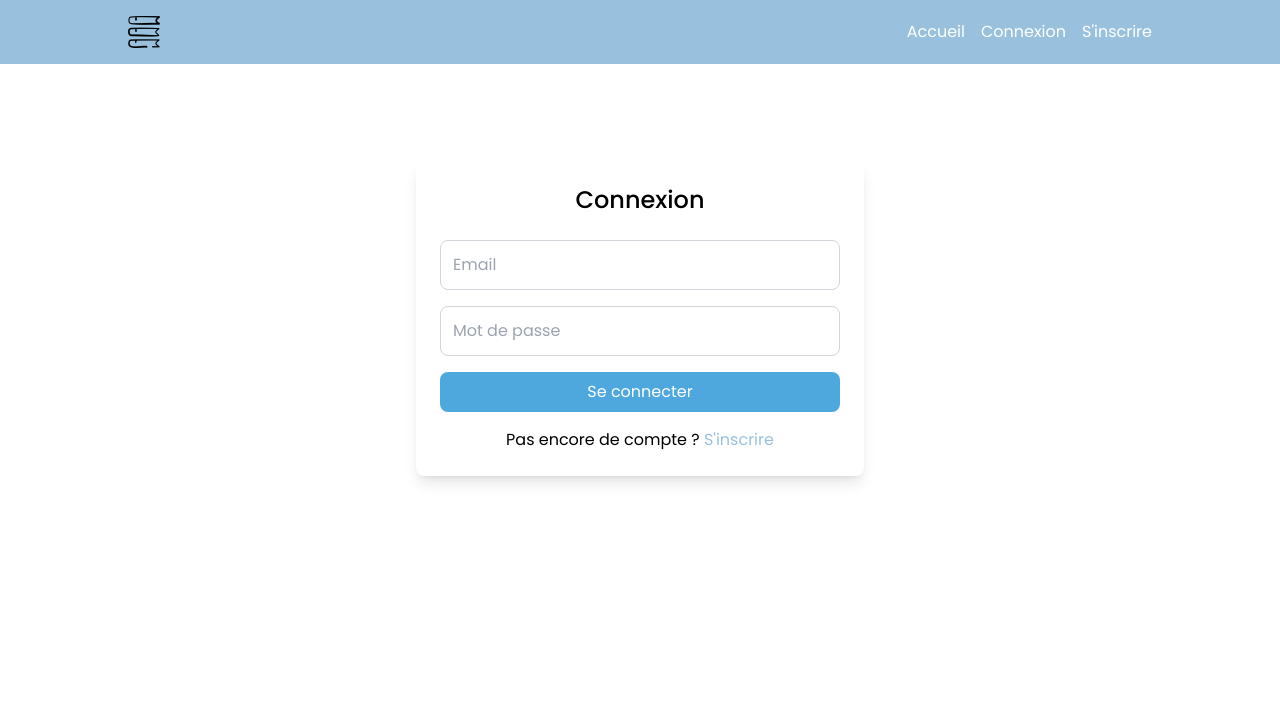
Test: Login Page Tests › Login Failure with Invalid Credentials
Type "invalid-email@example.com" into the field with placeholder "Email" at (640, 265), box x1=440 y1=240 x2=840 y2=290
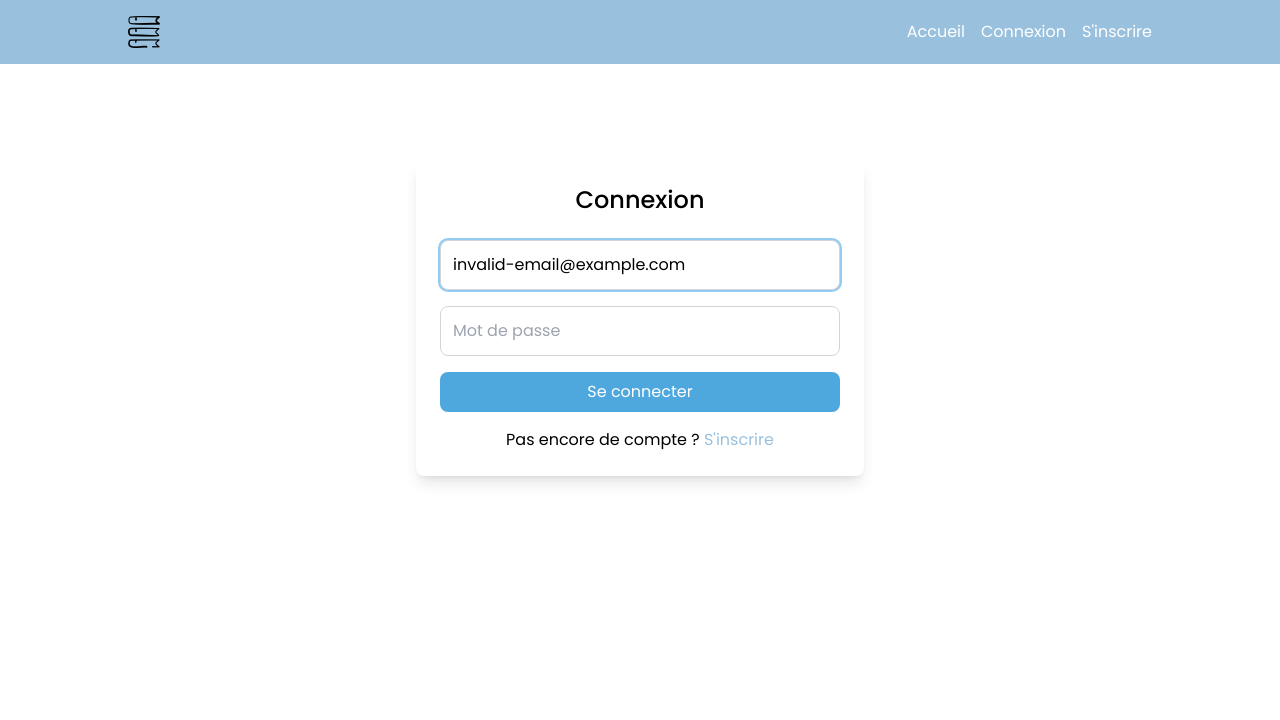
Type "invalid-password" into the password field with placeholder "Mot de passe" at (640, 331), box x1=440 y1=306 x2=840 y2=356
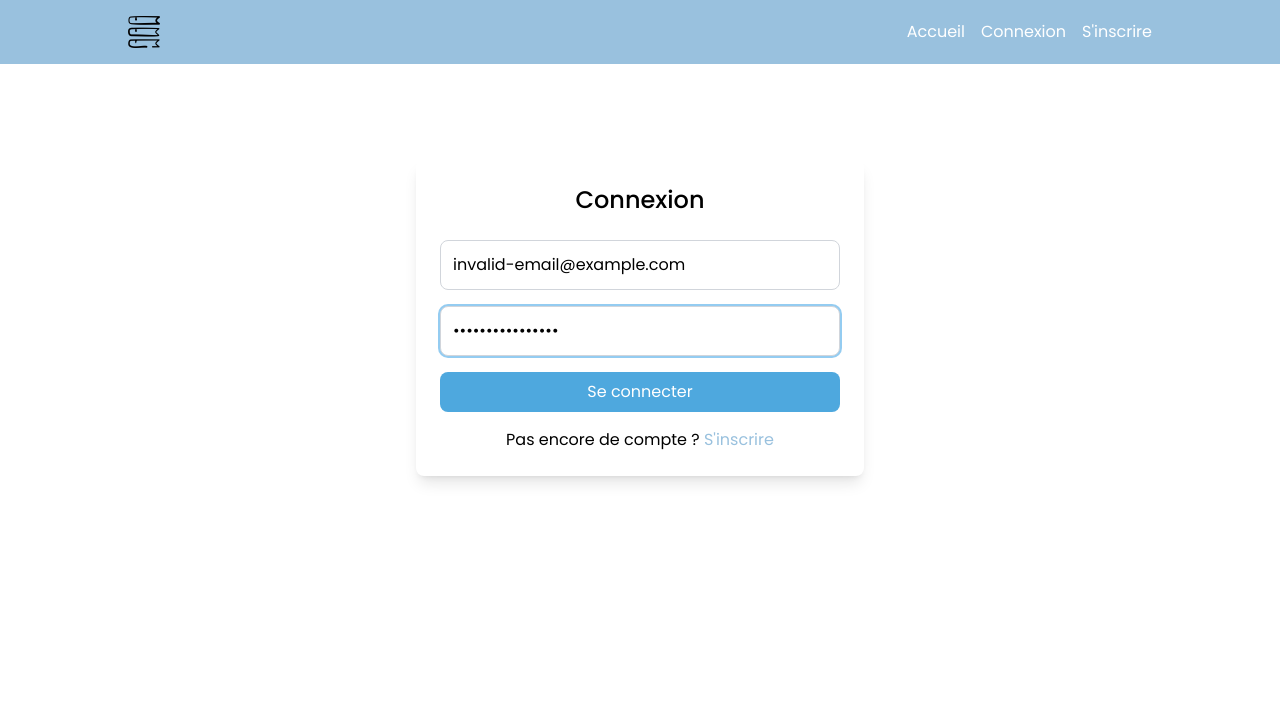
Click the submit button at (640, 392), box x1=440 y1=372 x2=840 y2=412
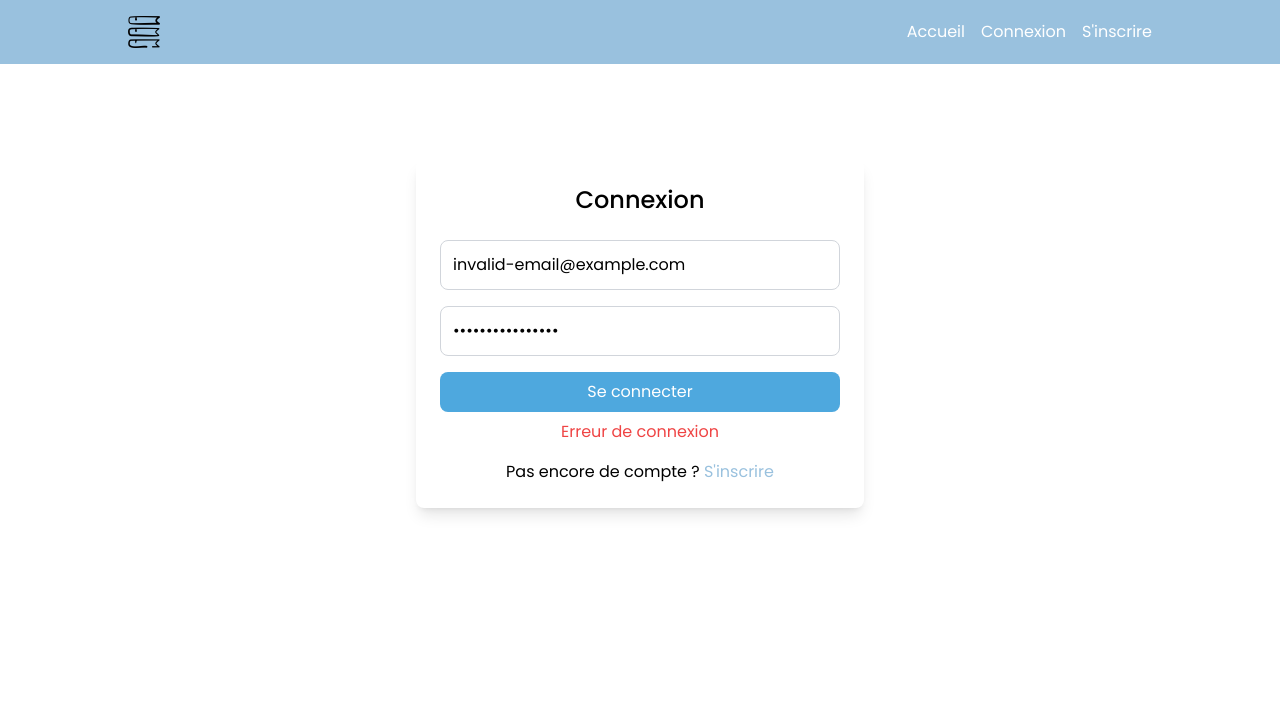
Now the text "Erreur de connexion" is shown, box x1=561 y1=420 x2=719 y2=443
